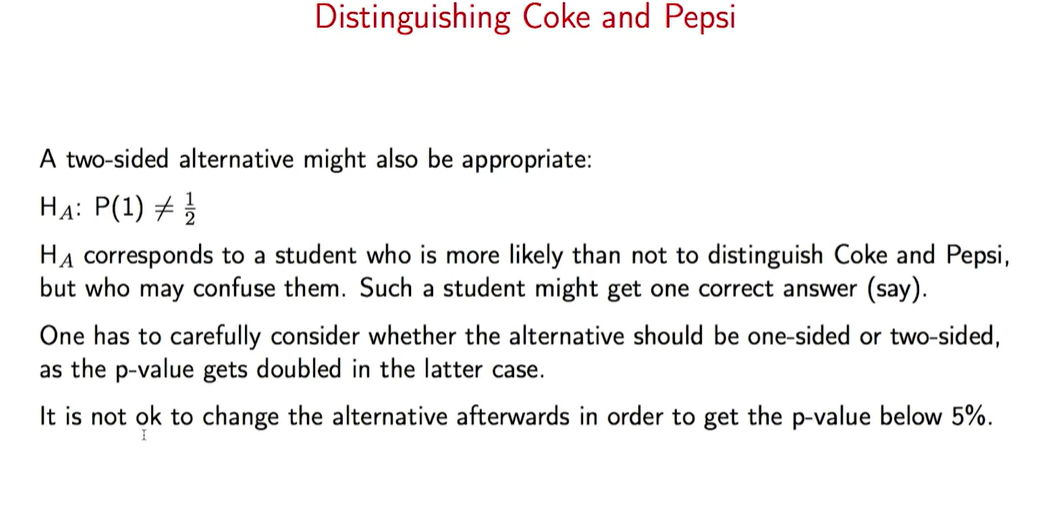equation: (29, 191, 202, 231)
text: (28, 240, 1016, 304), (37, 322, 1005, 381), (37, 401, 995, 435), (38, 143, 605, 179), (307, 1, 748, 36)
